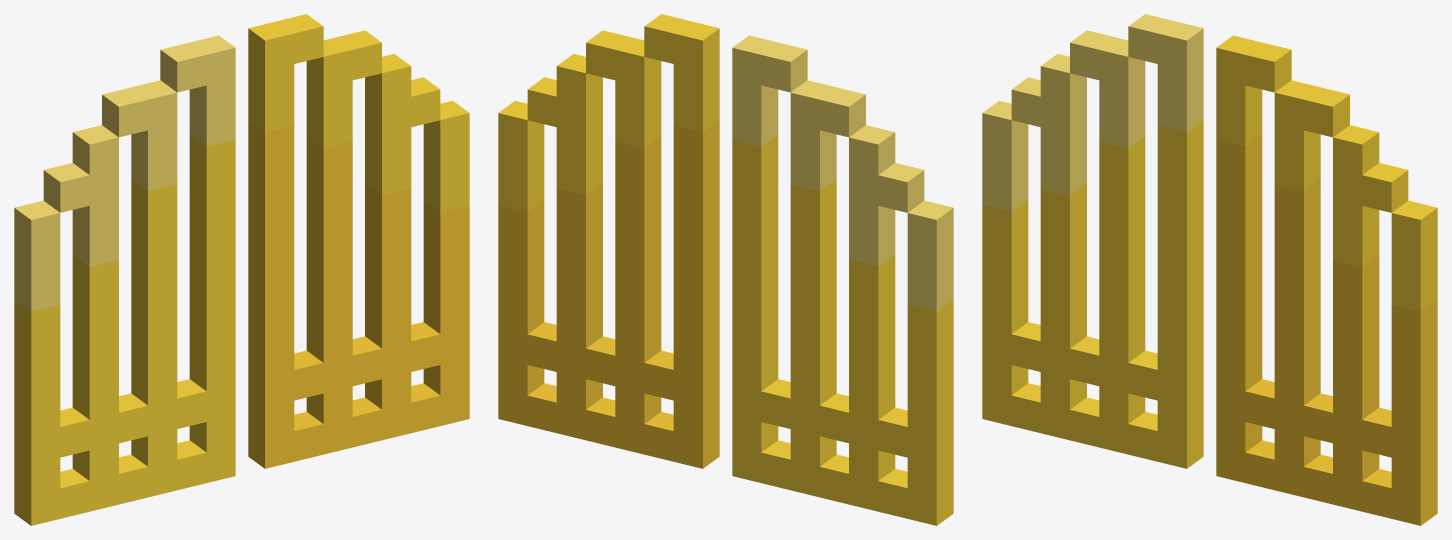
File: full-locked-gate.obj
The picture shows the model from 3 angles, left to right: view 1: azimuth 30°, elevation 25°; view 2: azimuth 150°, elevation 25°; view 3: azimuth 330°, elevation 25°; orthographic projection.
Size of the model in its own units: 1.5 by 1.4 by 0.1.
1 material, 1 textured.
